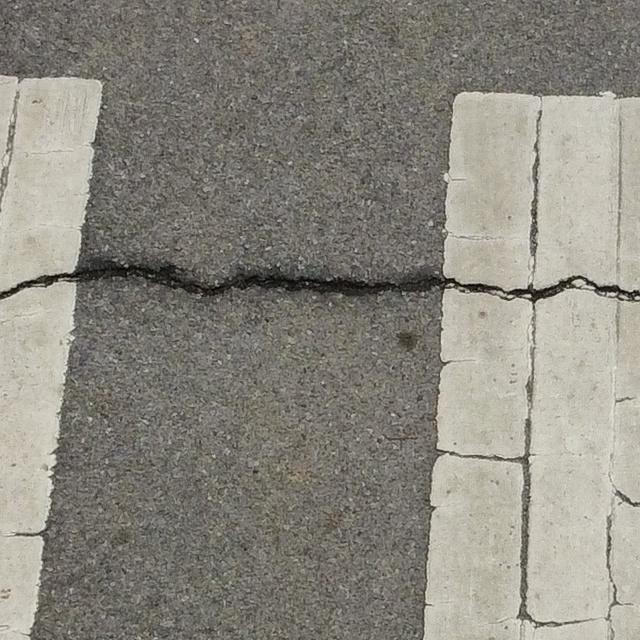TransverseCrack: (1, 260, 640, 304)
